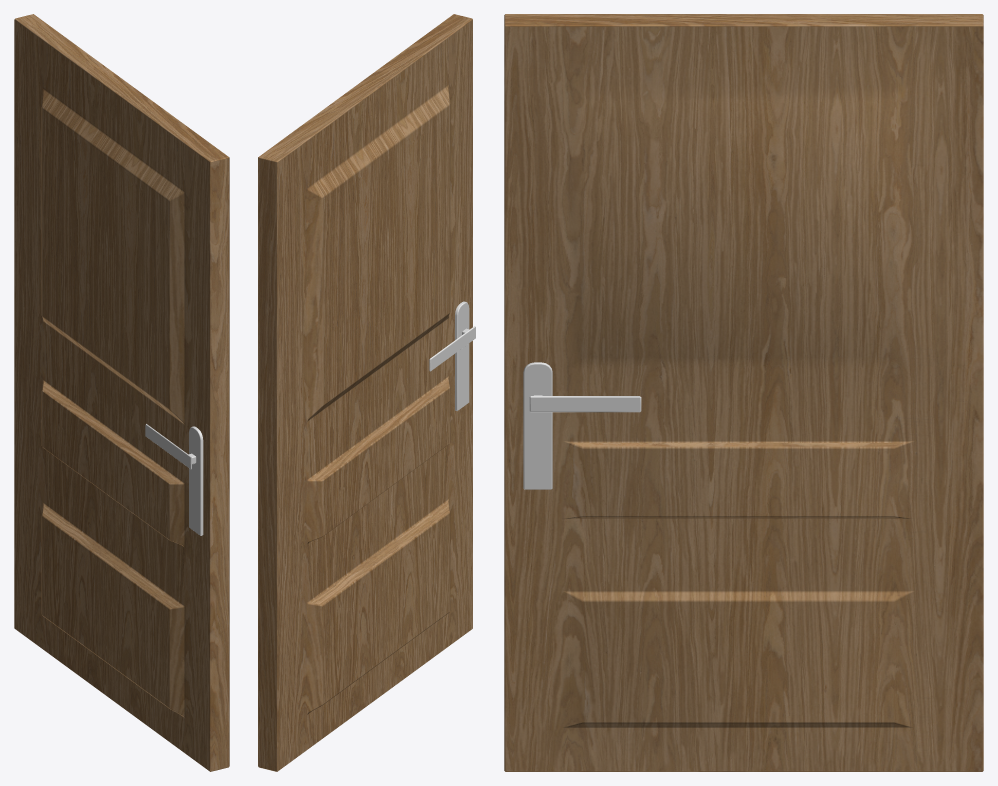
The model's file is Modelo habitaciones copia.fbx.
3 views of the same model, side by side, from view 1: azimuth 30°, elevation 25°; view 2: azimuth 150°, elevation 25°; view 3: azimuth 270°, elevation 25° (orthographic). The views are drawn at different scales.
Parts seen in each view (by area): view 1: Cube.074; view 2: Cube.074; view 3: Cube.074.
Part boxes in pixels (box(x1,y1,x2,y2)): Cube.074: box(14, 14, 229, 771); Cube.074: box(258, 14, 475, 771); Cube.074: box(504, 14, 983, 771).
Size of the model in its own units: 13.61 by 192 by 112.
